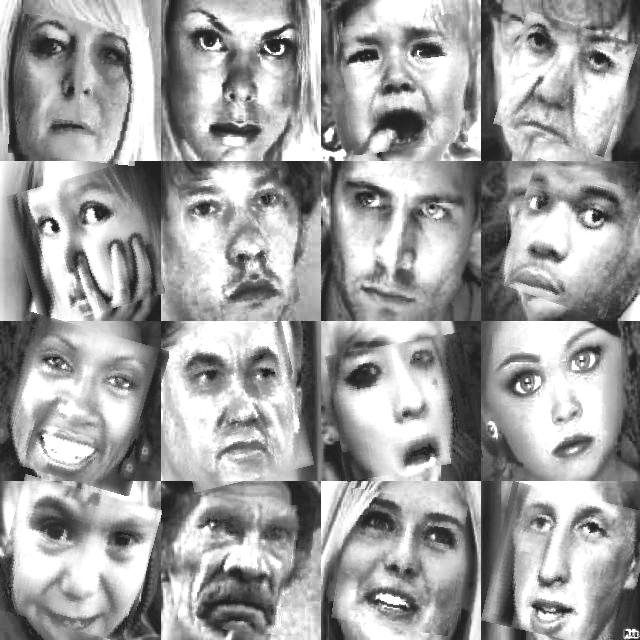angry: (501, 18, 631, 150), (342, 17, 464, 152), (345, 186, 467, 305)
fear: (330, 338, 478, 476)
happy: (0, 481, 154, 636), (168, 327, 306, 487), (12, 168, 157, 320), (336, 492, 464, 632), (171, 16, 301, 138)
neutral: (504, 165, 638, 313), (12, 17, 146, 163), (494, 328, 614, 478), (183, 171, 295, 316)
sad: (0, 319, 160, 487), (487, 488, 640, 640), (181, 497, 313, 634)
